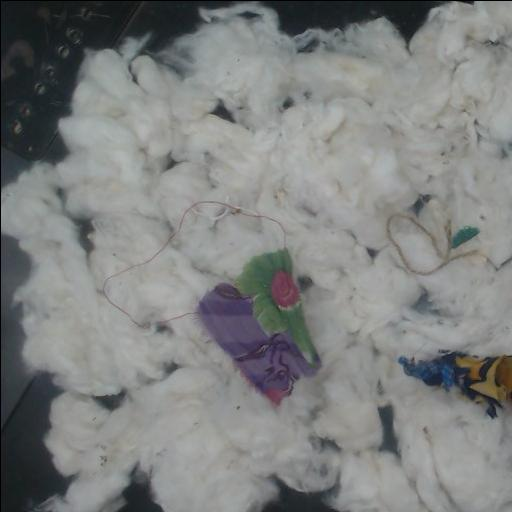cloth: (196, 247, 321, 404), (398, 352, 512, 417)
conveyor belt: (1, 1, 232, 187), (1, 235, 68, 512), (262, 1, 440, 41), (263, 480, 336, 512), (119, 473, 161, 512), (379, 406, 398, 455), (213, 105, 232, 119)
cotton: (1, 1, 512, 512)
jute: (384, 214, 473, 276)
thread: (103, 200, 286, 328), (449, 226, 478, 249), (164, 311, 192, 320)
